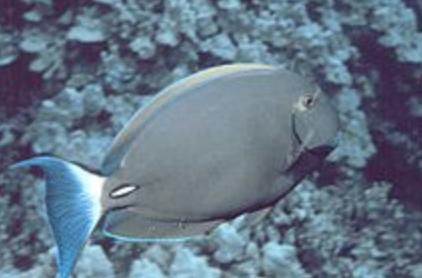Acanthuridae -Surgeonfishes-: (10, 60, 344, 278)
